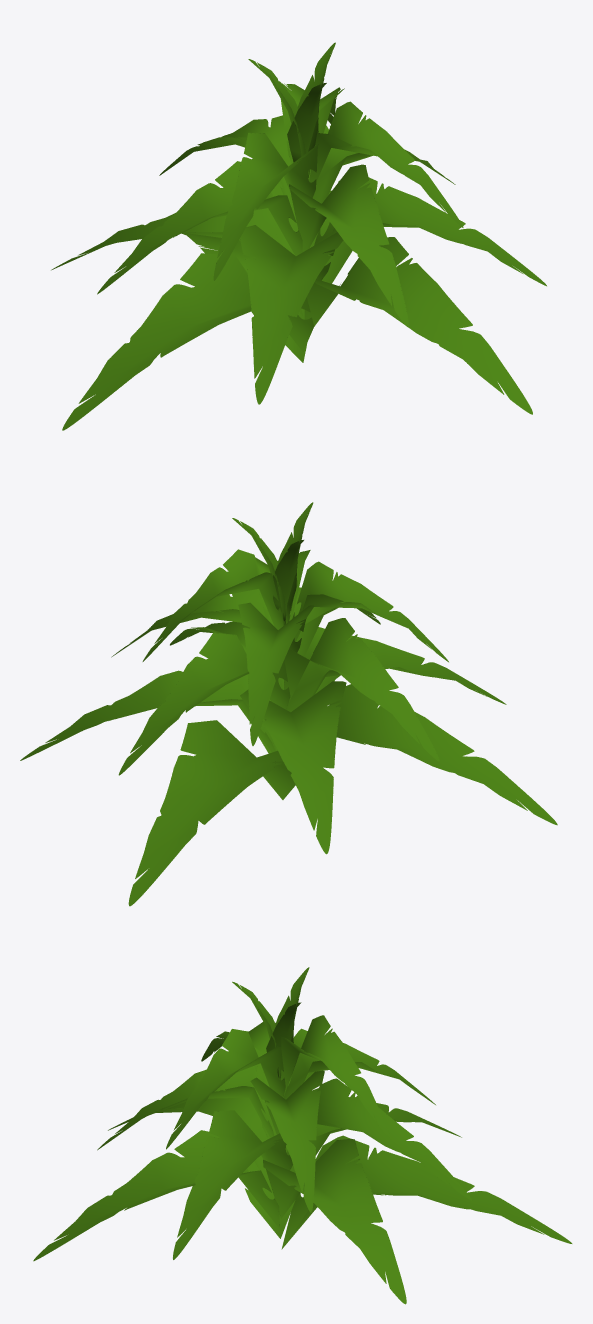
Rendered from foliage_6.gltf.
The picture shows the model from 3 angles, top to bottom: view 1: azimuth 30°, elevation 25°; view 2: azimuth 150°, elevation 25°; view 3: azimuth 270°, elevation 25°; orthographic projection. The views are drawn at different scales.
Parts seen in each view (by area): view 1: 16; view 2: 16; view 3: 16.
Part boxes in pixels (box(x1,y1,x2,y2)): 16: box(51, 42, 546, 430); 16: box(20, 502, 557, 906); 16: box(33, 967, 572, 1304).
Size of the model in its own units: 0.5444 by 0.328 by 0.5842.
Materials: 1 (1 with a texture image).
